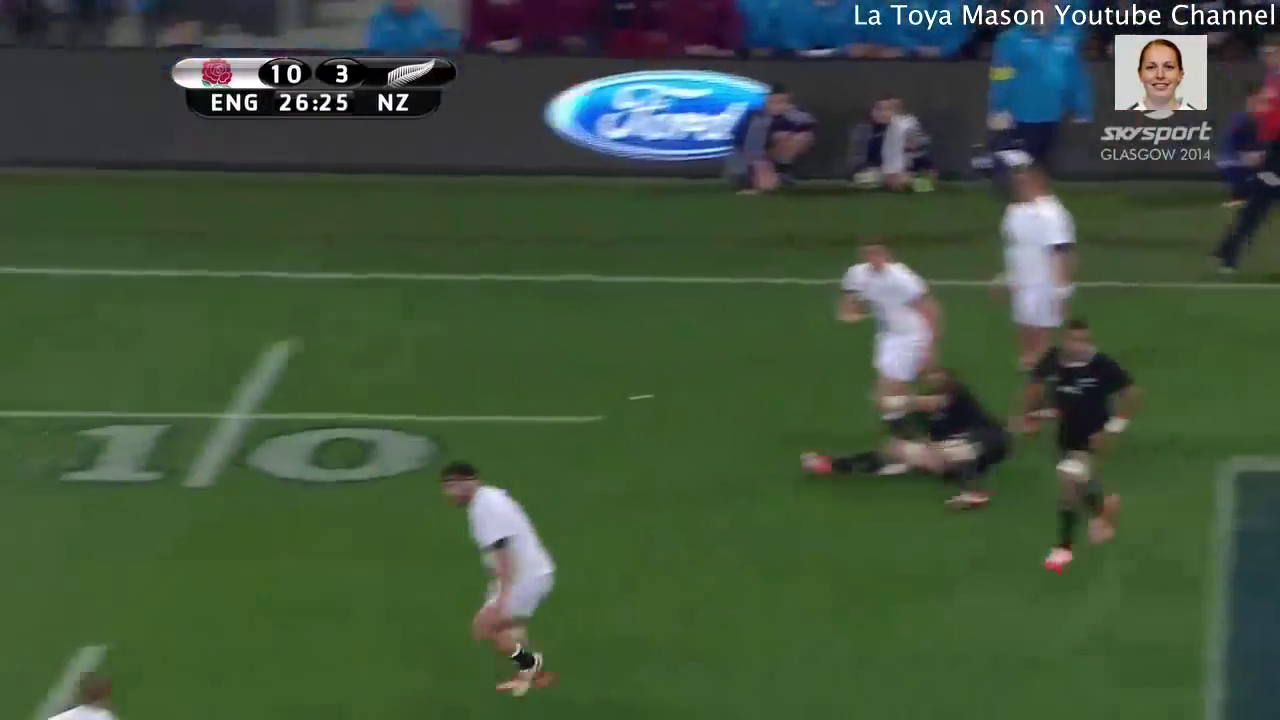10_metre: (1, 312, 617, 505)
player: (792, 358, 1024, 531), (1015, 300, 1148, 590), (421, 447, 569, 704), (985, 144, 1093, 442), (819, 233, 942, 449), (1, 652, 139, 720)
